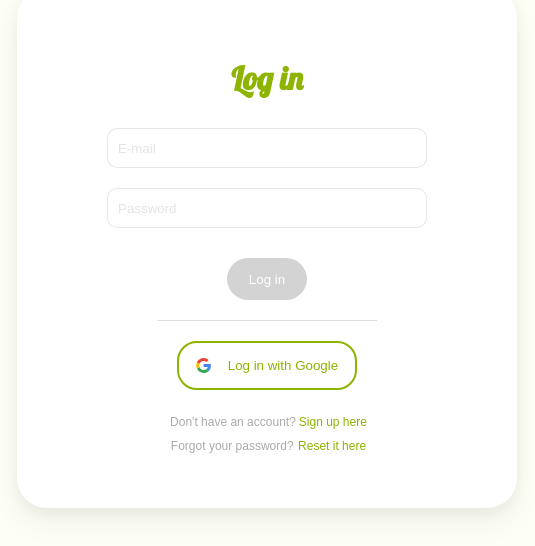
Test: Pages › Login › should show error when not a valid password
Type "aa" into the password field with placeholder "Password". click: coordinates (267, 208)
box: [107,188,427,228]
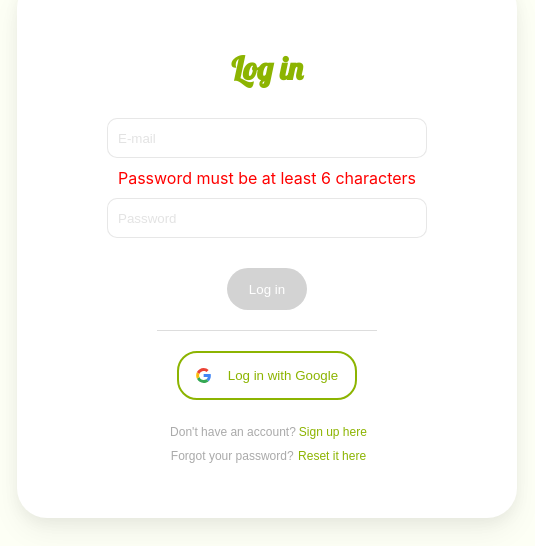
Now the text with class "error_message" reads "Password must be at least 6 characters", box [118,168,416,188]
